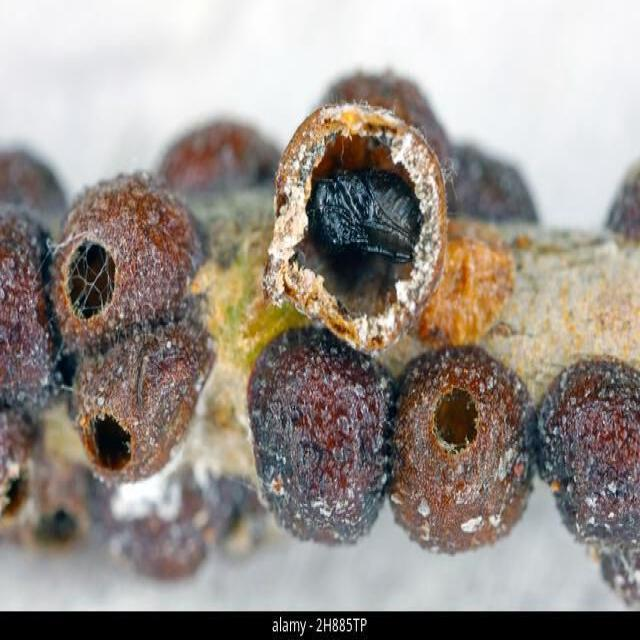BlackScale: (61, 173, 212, 478), (263, 103, 446, 331), (248, 332, 393, 541), (390, 346, 532, 552), (538, 358, 639, 550), (0, 206, 62, 428)
